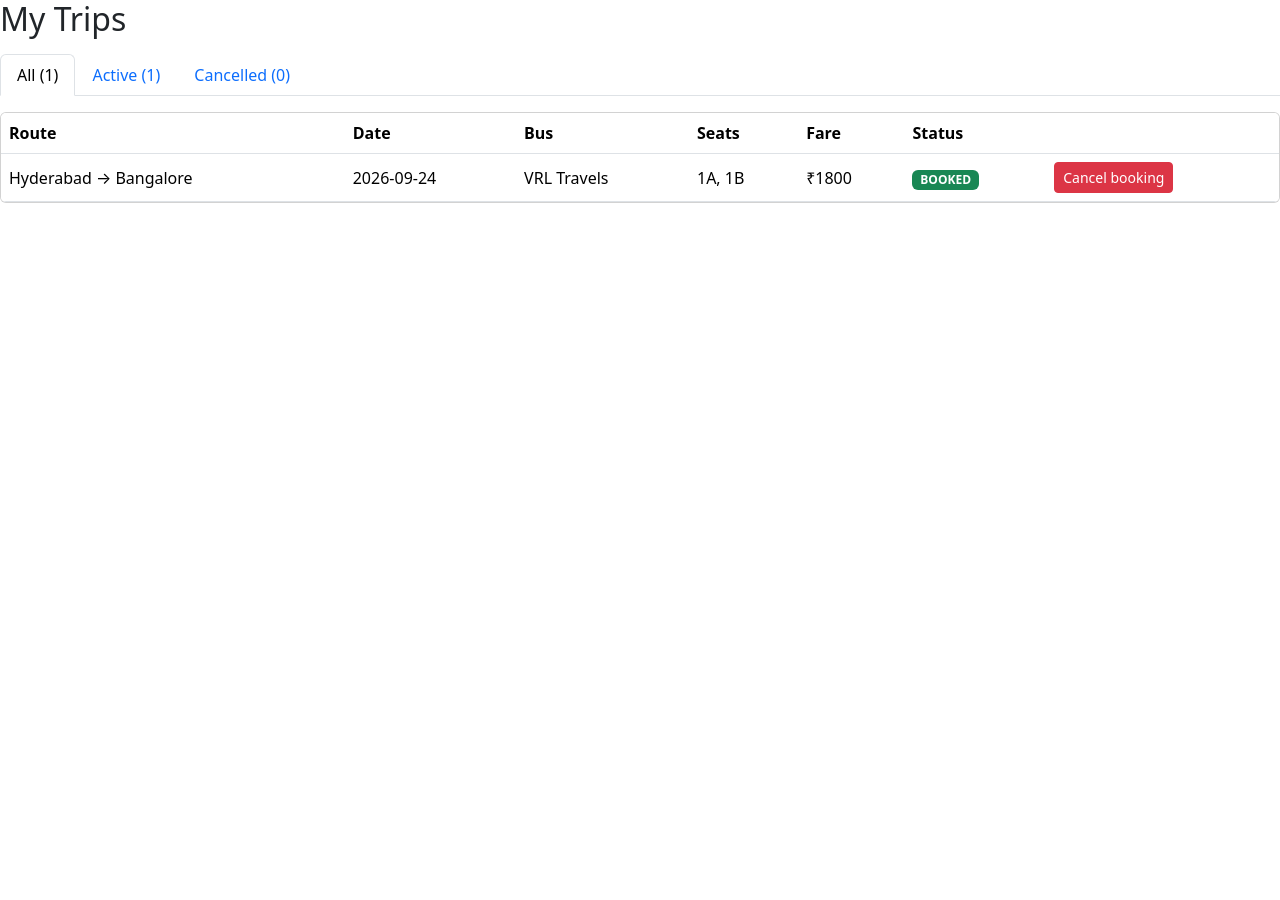
it: MyTripsPage › does nothing when the user keeps the booking
The image size is (1280, 900).
Click the button "Cancel booking" at (1114, 178), box [1054,162,1173,193]
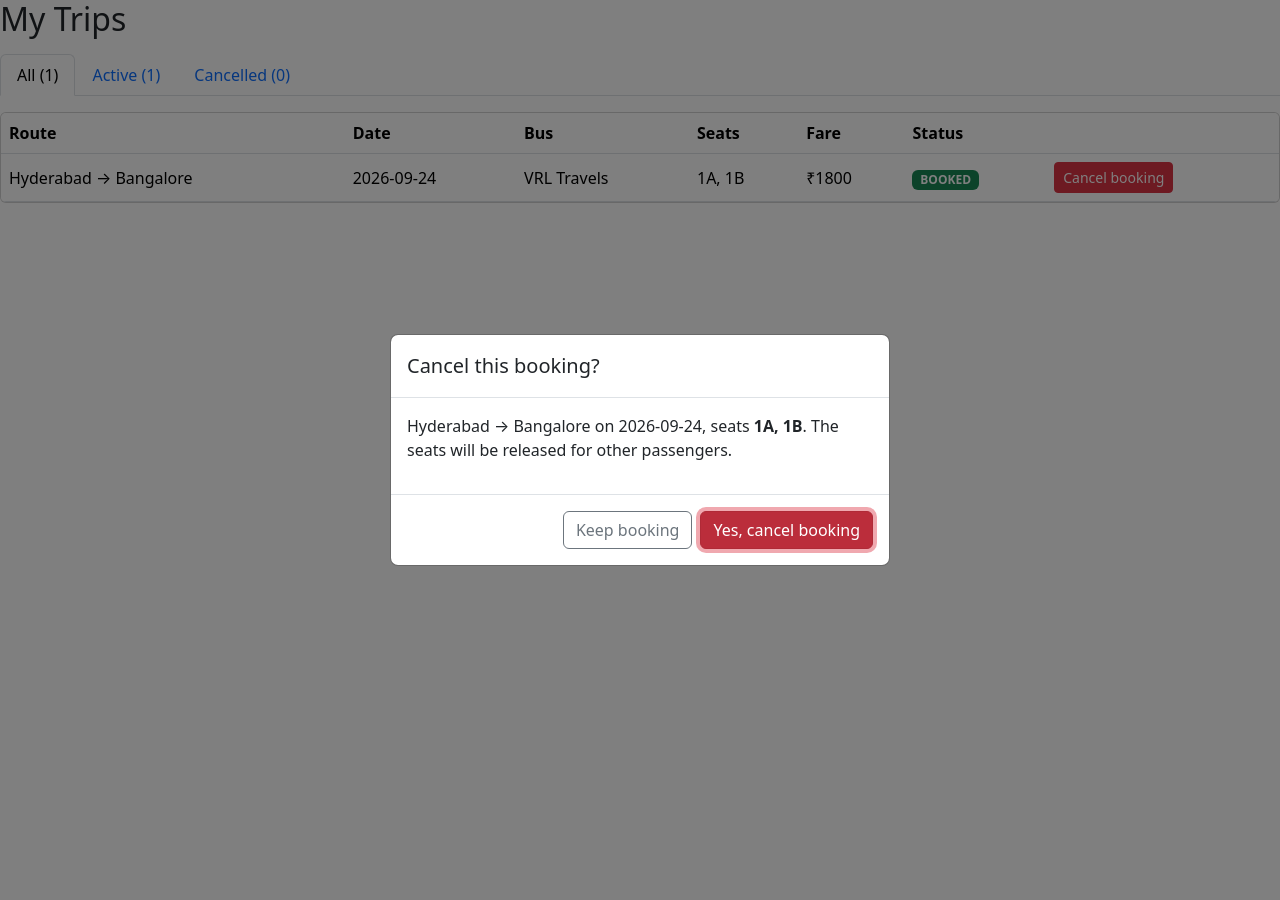
Click the button "Keep booking" at (628, 530), box [563,511,692,549]
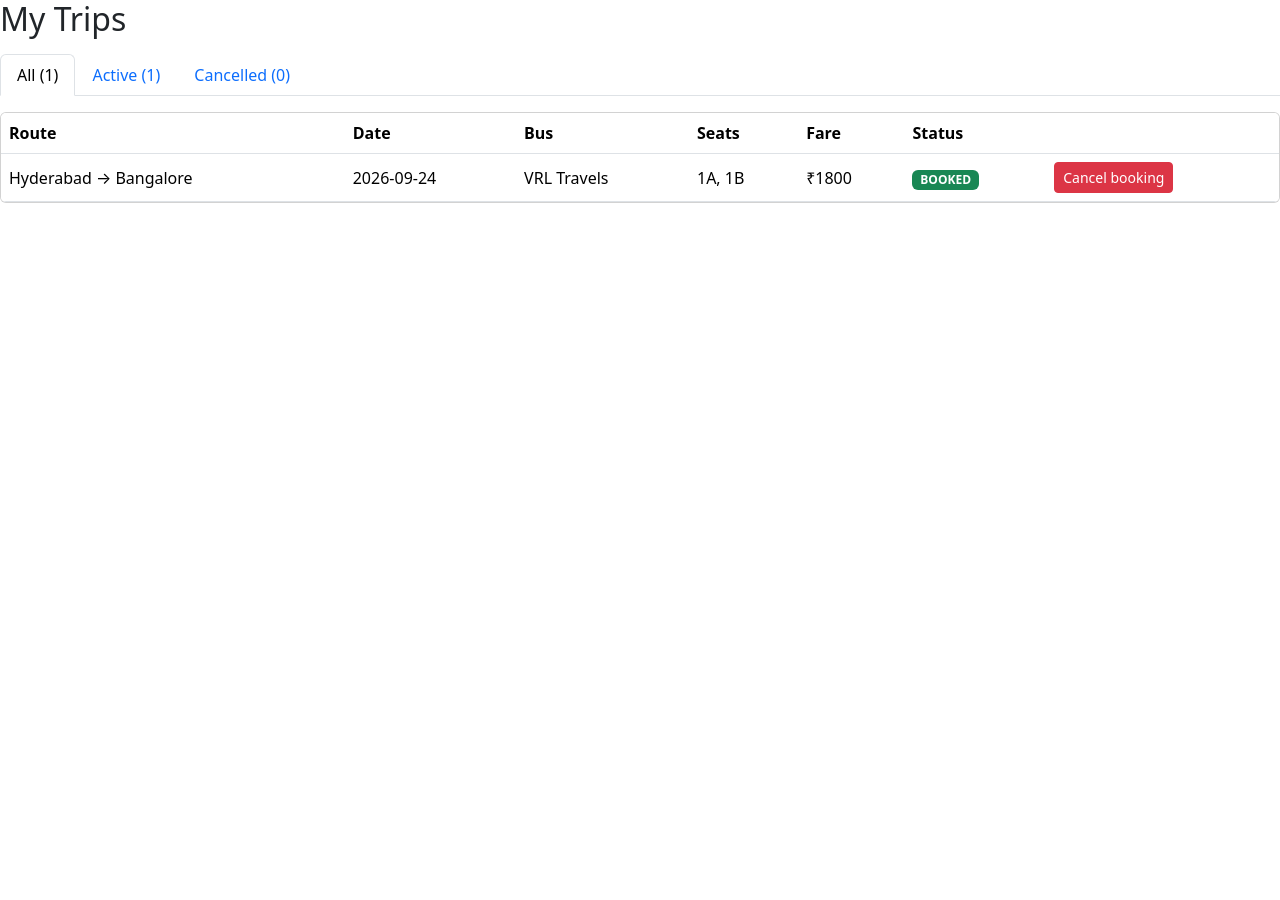
Expected: the text "BOOKED" is shown, [912,170,979,190]
Result: the dialog is gone
